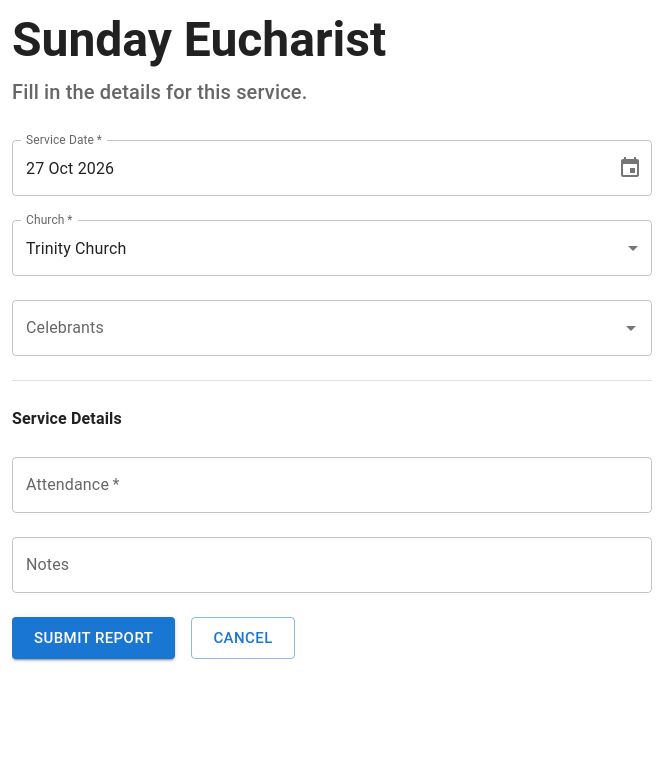
it: ServiceSubmitPage › shows an error and does not submit when required fields are missing
Expected: the heading "Sunday Eucharist" is shown, [12,11,386,68]
// Do not fill attendance (required)
Click the button "Submit Report" at (94, 638), box [12,617,175,659]
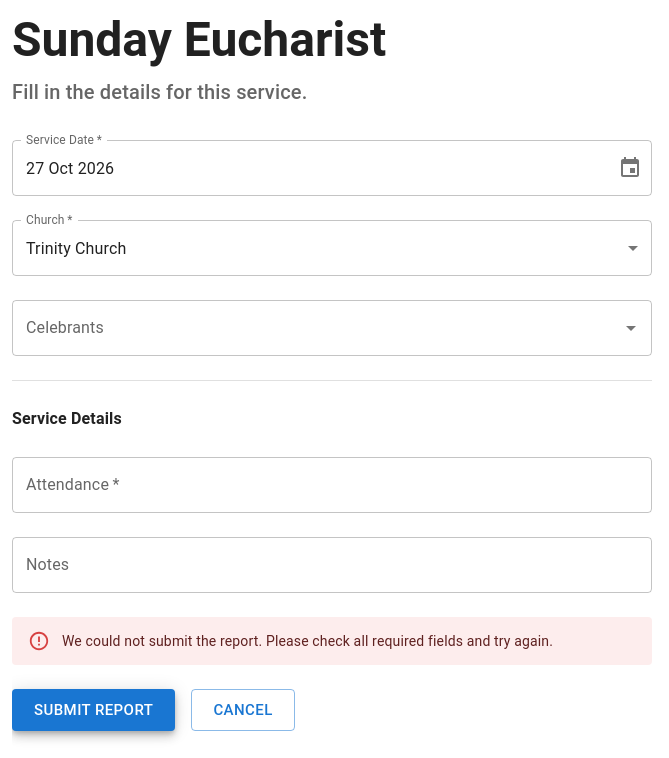
Expected: the text "We could not submit the report. Please check all required fields and try again." is shown, [62,633,553,649]
